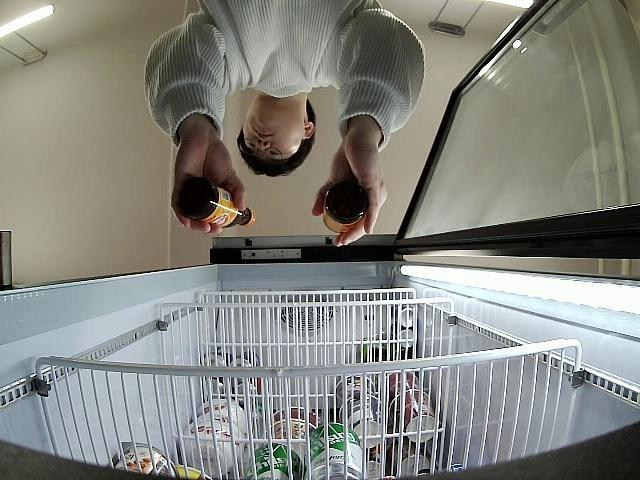17_vita500: (172, 174, 256, 226), (322, 183, 365, 232)
